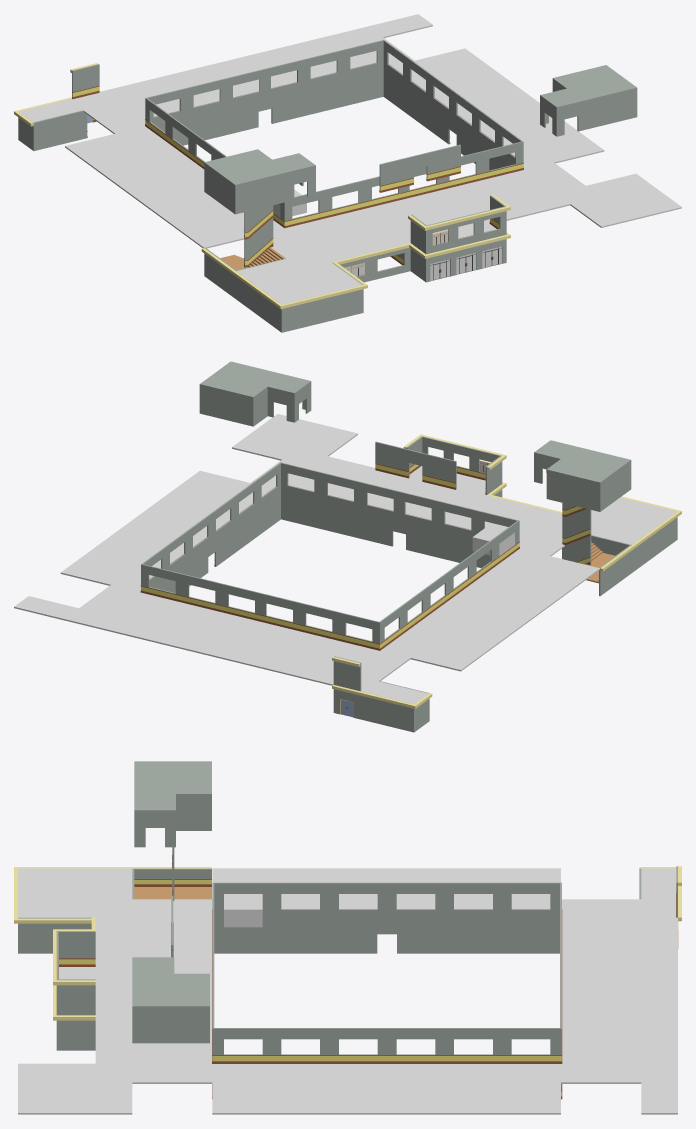
The model's file is ClassBeta.fbx.
The picture shows the model from 3 angles, top to bottom: view 1: azimuth 30°, elevation 25°; view 2: azimuth 150°, elevation 25°; view 3: azimuth 270°, elevation 25°; orthographic projection. The views are drawn at different scales.
Visible parts, largest first — view 1: Cube.022, Centro.002, Centro.004, SupA, SupA.001, bath, Cube.026, Cube.023, EdifiPost, Frontal, Cube.008, Class (+3 smaller); view 2: Cube.022, Centro.002, Centro.004, SupA.001, SupA, Cube.023, Cube.026, EdifiPost, bath, Cube.008, WallStair, Cube.025 (+2 smaller); view 3: Cube.022, Centro.002, Centro.004, SupA.001, SupA, Cube.026, Cubierta, Frontal, WallStair, Cube.024, Cube.004.
Part boxes in pixels (left/top/right/bottom): Cube.022: left=18, top=14, right=681, bottom=304; Centro.002: left=145, top=40, right=523, bottom=228; Centro.004: left=155, top=68, right=513, bottom=170; SupA: left=204, top=149, right=315, bottom=214; SupA.001: left=540, top=65, right=637, bottom=136; bath: left=232, top=258, right=336, bottom=332; Cube.026: left=408, top=194, right=510, bottom=254; Cube.023: left=379, top=144, right=460, bottom=192; EdifiPost: left=14, top=97, right=87, bottom=150; Frontal: left=409, top=232, right=510, bottom=282; Cube.008: left=244, top=205, right=273, bottom=267; Class: left=332, top=243, right=411, bottom=282; Cube.022: left=14, top=414, right=677, bottom=704; Centro.002: left=140, top=462, right=519, bottom=650; Centro.004: left=151, top=491, right=490, bottom=592; SupA.001: left=199, top=361, right=311, bottom=426; SupA: left=534, top=440, right=631, bottom=511; Cube.023: left=375, top=441, right=456, bottom=489; Cube.026: left=403, top=434, right=506, bottom=494; EdifiPost: left=359, top=681, right=432, bottom=732; bath: left=591, top=497, right=681, bottom=573; Cube.008: left=562, top=503, right=591, bottom=565; WallStair: left=598, top=545, right=633, bottom=596; Cube.025: left=332, top=656, right=361, bottom=691; Cube.022: left=18, top=868, right=677, bottom=1114; Centro.002: left=212, top=882, right=562, bottom=1063; Centro.004: left=212, top=918, right=562, bottom=1099; SupA.001: left=132, top=957, right=209, bottom=1043; SupA: left=134, top=761, right=211, bottom=847; Cube.026: left=53, top=929, right=95, bottom=1015; Cubierta: left=14, top=901, right=91, bottom=953; Frontal: left=53, top=985, right=95, bottom=1050; WallStair: left=134, top=867, right=211, bottom=886; Cube.024: left=224, top=894, right=262, bottom=927; Cube.004: left=134, top=887, right=211, bottom=899.
Size of the model in its own units: 6016 by 1620 by 6880.
